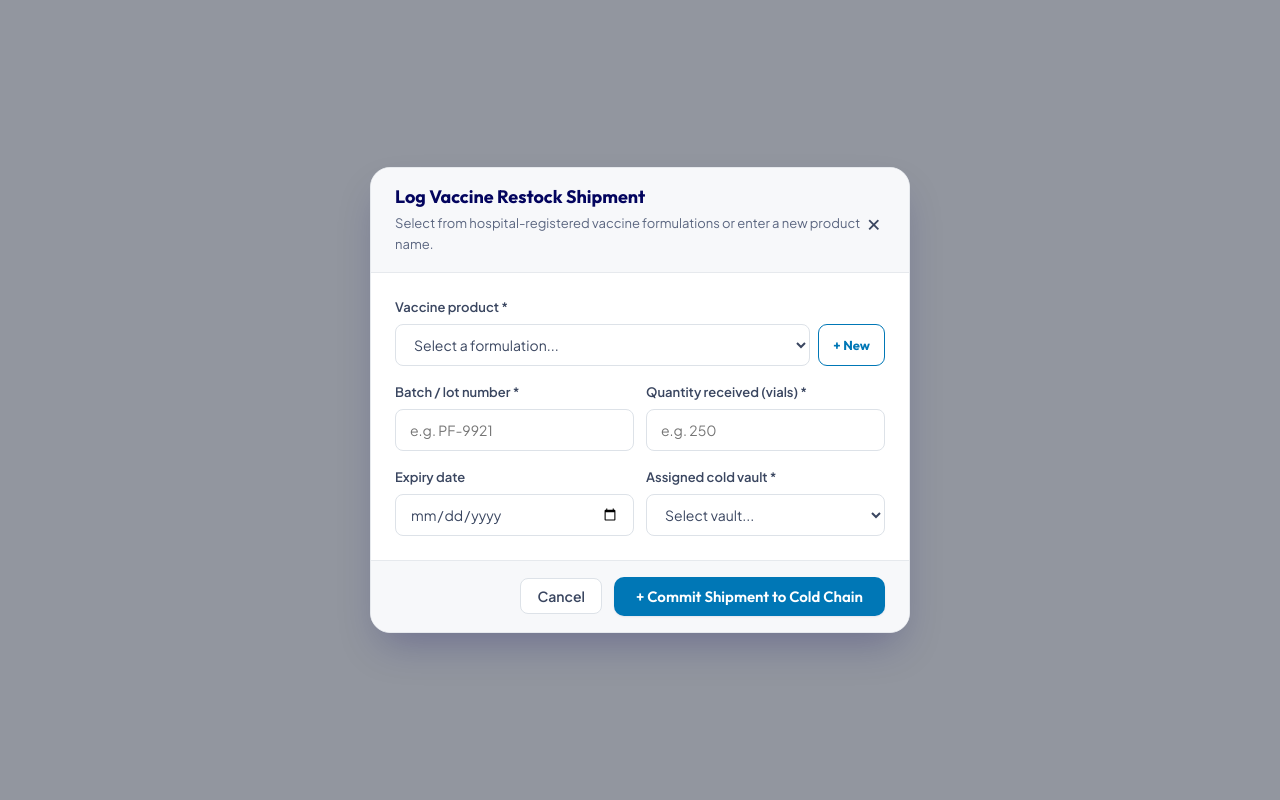
RestockVaccineModal › shows an error when lot number is empty on submit
# Set the vaccine name via the select
Select "Pfizer" in the dropdown named "vaccineName" below "Vaccine product *". click: (603, 345)
box: left=395, top=324, right=810, bottom=366
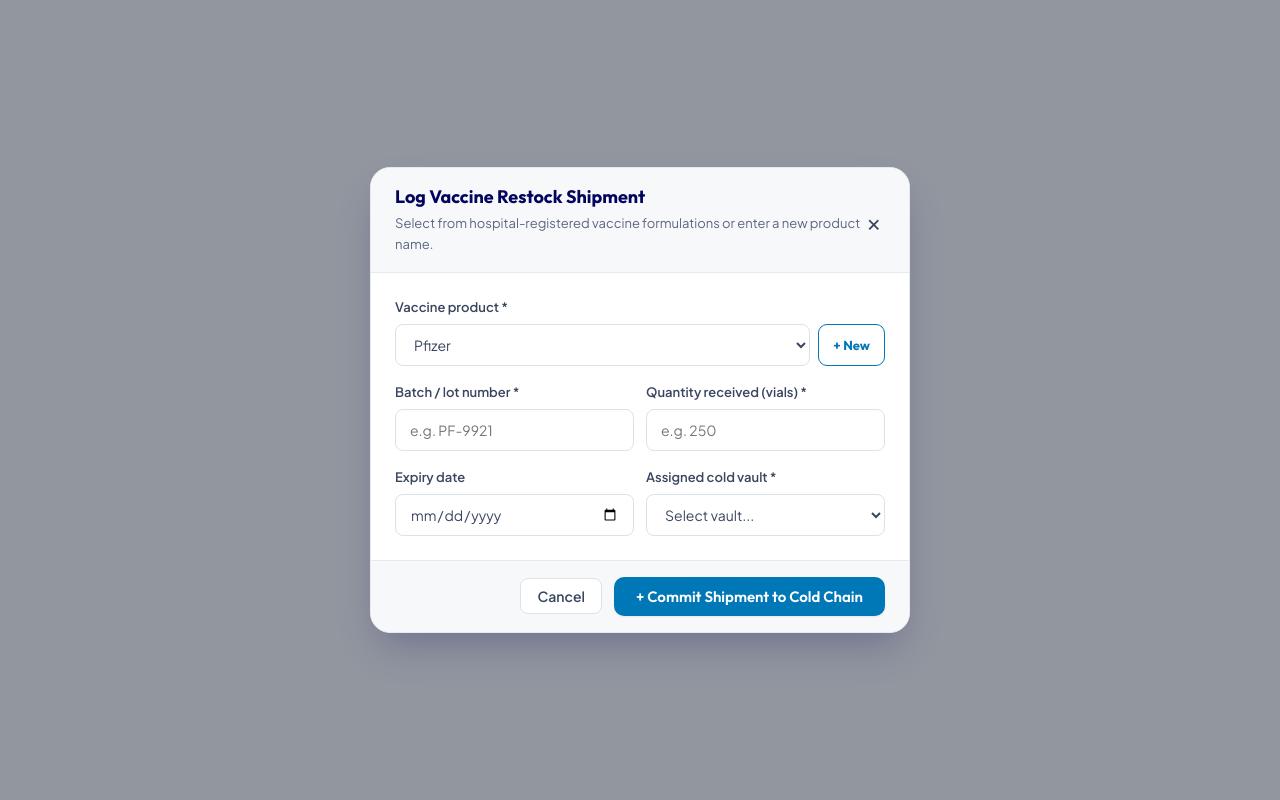
Submit the form, box left=371, top=273, right=909, bottom=632
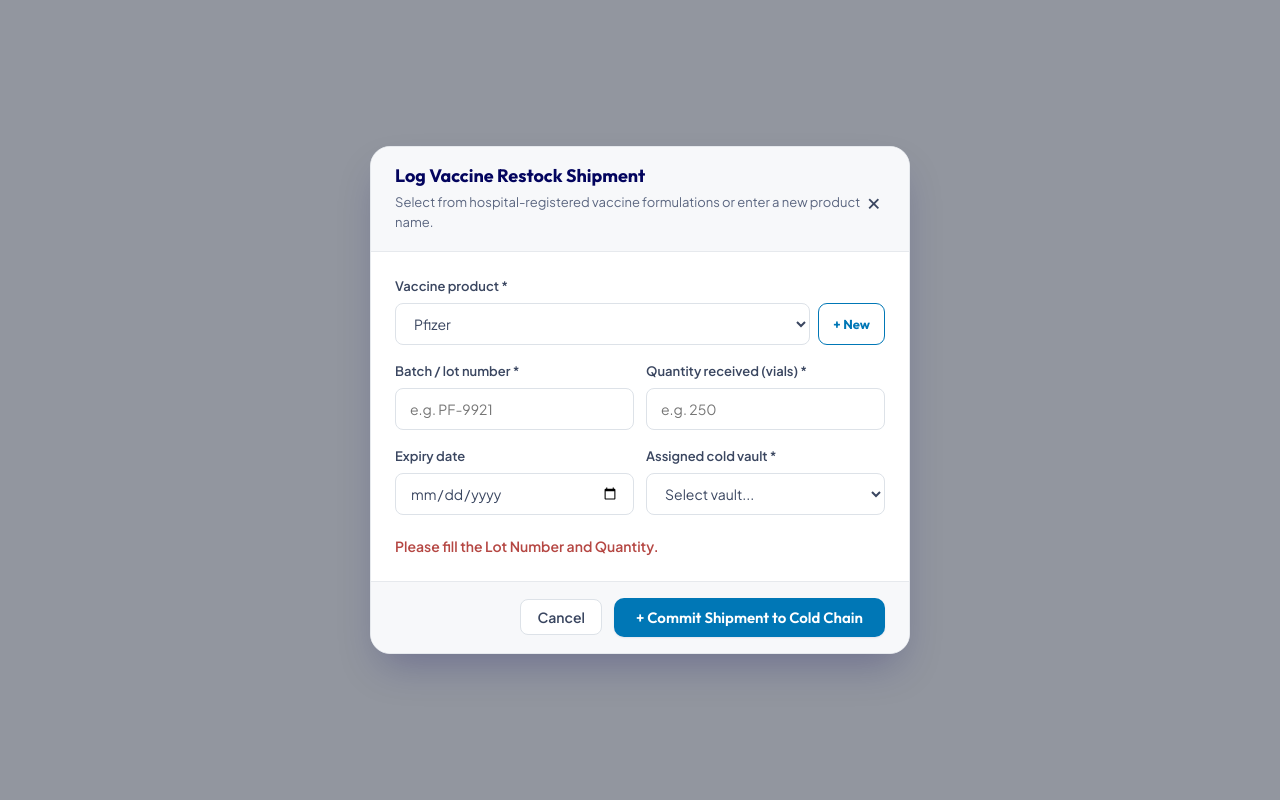
Expected: the message shows "Lot Number and Quantity", left=395, top=536, right=659, bottom=554
